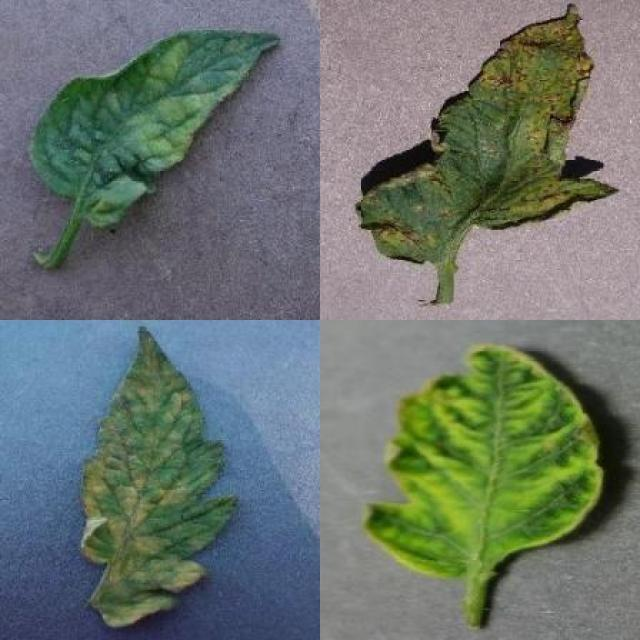Leaf Mold: (34, 30, 280, 229), (79, 324, 237, 630)
Septoria: (357, 3, 619, 264)
Yellow Leaf Curl Virus: (362, 344, 605, 576)
